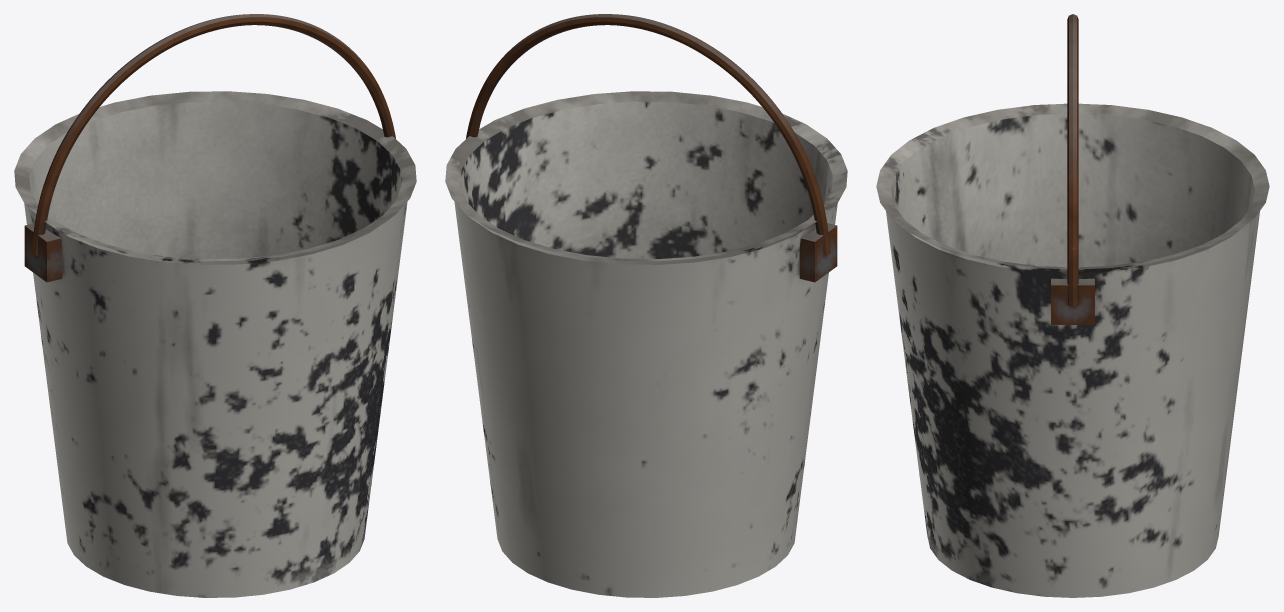
The model's file is SM_Bucket_Enamel.fbx.
The picture shows the model from 3 angles, left to right: view 1: azimuth 30°, elevation 25°; view 2: azimuth 150°, elevation 25°; view 3: azimuth 270°, elevation 25°; orthographic projection. The views are drawn at different scales.
Visible parts, largest first — view 1: SM_Bucket_Enamel; view 2: SM_Bucket_Enamel; view 3: SM_Bucket_Enamel.
Part boxes in pixels (bbox=[...]): SM_Bucket_Enamel: bbox=[14, 14, 416, 597]; SM_Bucket_Enamel: bbox=[445, 14, 847, 597]; SM_Bucket_Enamel: bbox=[876, 14, 1269, 597].
Bounding box in the file's own units: 0.284 × 0.3811 × 0.27.
Materials: 1 (1 with a texture image).
